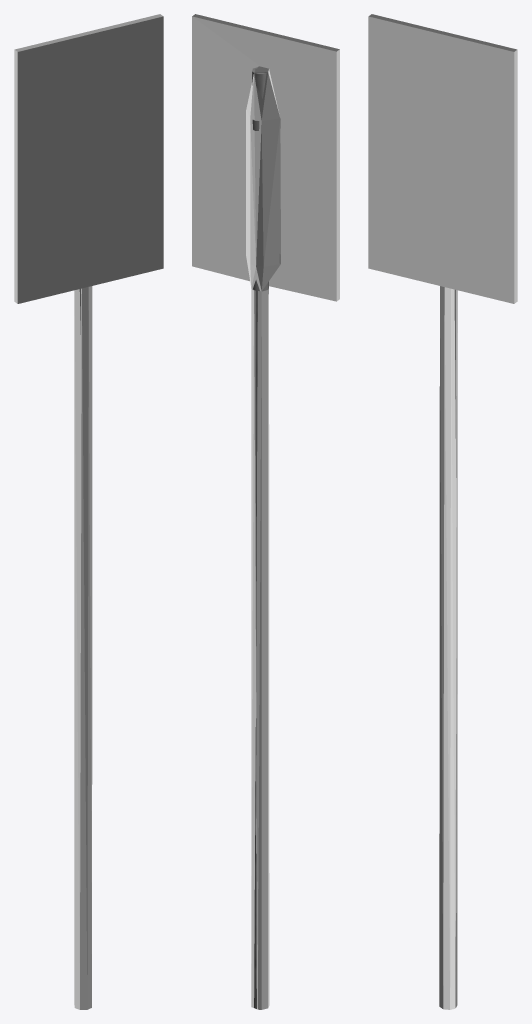
Rendered from SM_Sign_28.fbx.
The picture shows the model from 3 angles, left to right: view 1: azimuth 30°, elevation 25°; view 2: azimuth 150°, elevation 25°; view 3: azimuth 330°, elevation 25°; orthographic projection.
Parts seen in each view (by area): view 1: SM_Sign_28_ConvexHulls; view 2: SM_Sign_28_ConvexHulls, SM_Sign_28; view 3: SM_Sign_28_ConvexHulls, SM_Sign_28.
Part boxes in pixels (x1,y1,x2,y2): SM_Sign_28_ConvexHulls: (14,14,163,1009); SM_Sign_28_ConvexHulls: (192,14,339,1009); SM_Sign_28: (252,67,280,1008); SM_Sign_28_ConvexHulls: (368,14,517,1009); SM_Sign_28: (454,289,456,1007).
Size of the model in its own units: 30.31 by 4.65 by 194.
Materials: 2 (1 with a texture image).
